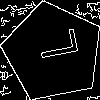L: (28, 27, 79, 63)
